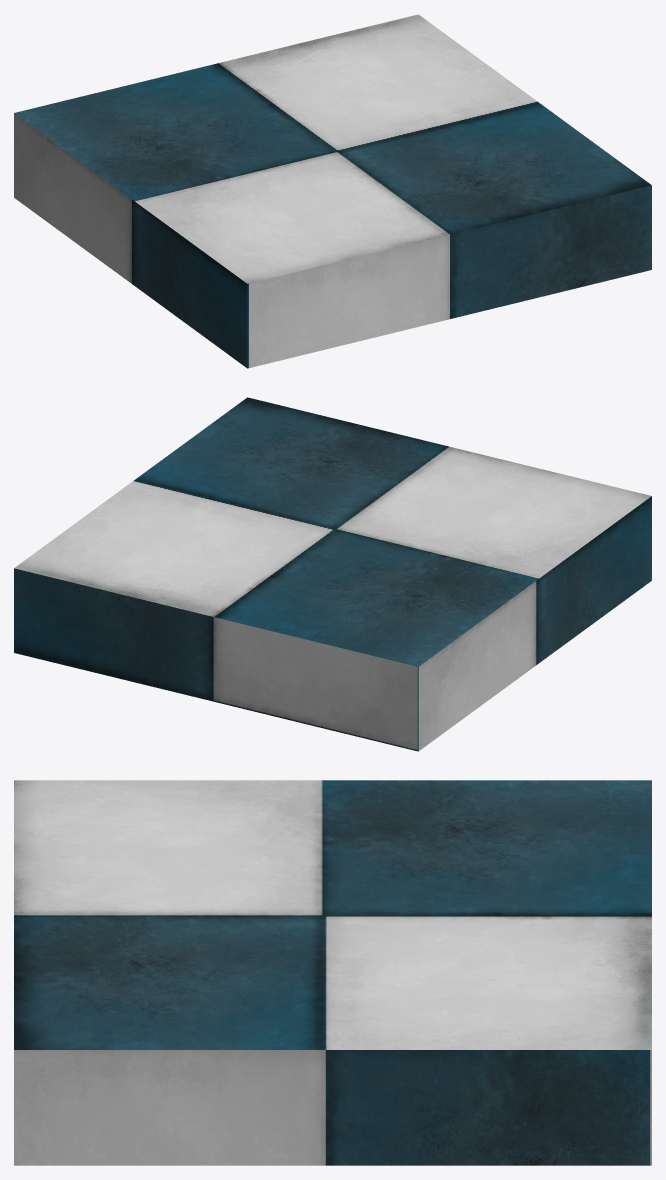
The model's file is Dark_Floor_Geo.fbx.
The picture shows the model from 3 angles, top to bottom: view 1: azimuth 30°, elevation 25°; view 2: azimuth 150°, elevation 25°; view 3: azimuth 270°, elevation 25°; orthographic projection. The views are drawn at different scales.
Visible parts, largest first — view 1: Light_Floor; view 2: Light_Floor; view 3: Light_Floor.
Boxes of the visible parts, left/top/right/bottom form: Light_Floor: left=14, top=14, right=651, bottom=368; Light_Floor: left=14, top=397, right=651, bottom=751; Light_Floor: left=14, top=780, right=651, bottom=1165.
Bounding box in the file's own units: 150 × 30 × 150.
1 material, 1 textured.
